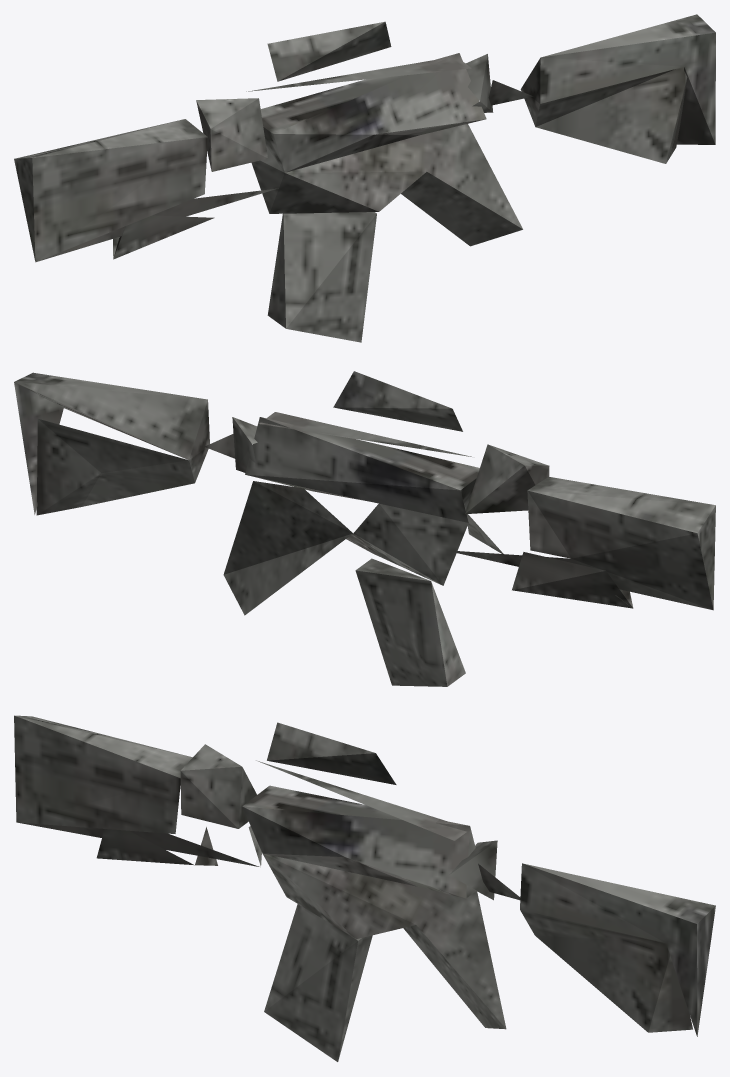
File: prop.rifle_raider.lod.glb
3 renders of one model, top to bottom at view 1: azimuth 30°, elevation 25°; view 2: azimuth 150°, elevation 25°; view 3: azimuth 330°, elevation 25°, orthographic.
Visible parts, largest first — view 1: body; view 2: body; view 3: body.
Part boxes in pixels (left/top/right/bottom): body: left=14, top=14, right=715, bottom=342; body: left=14, top=371, right=715, bottom=686; body: left=14, top=715, right=715, bottom=1061.
Bounding box in the file's own units: 0.4616 × 0.2003 × 0.0337.
Materials: 1 (1 with a texture image).
